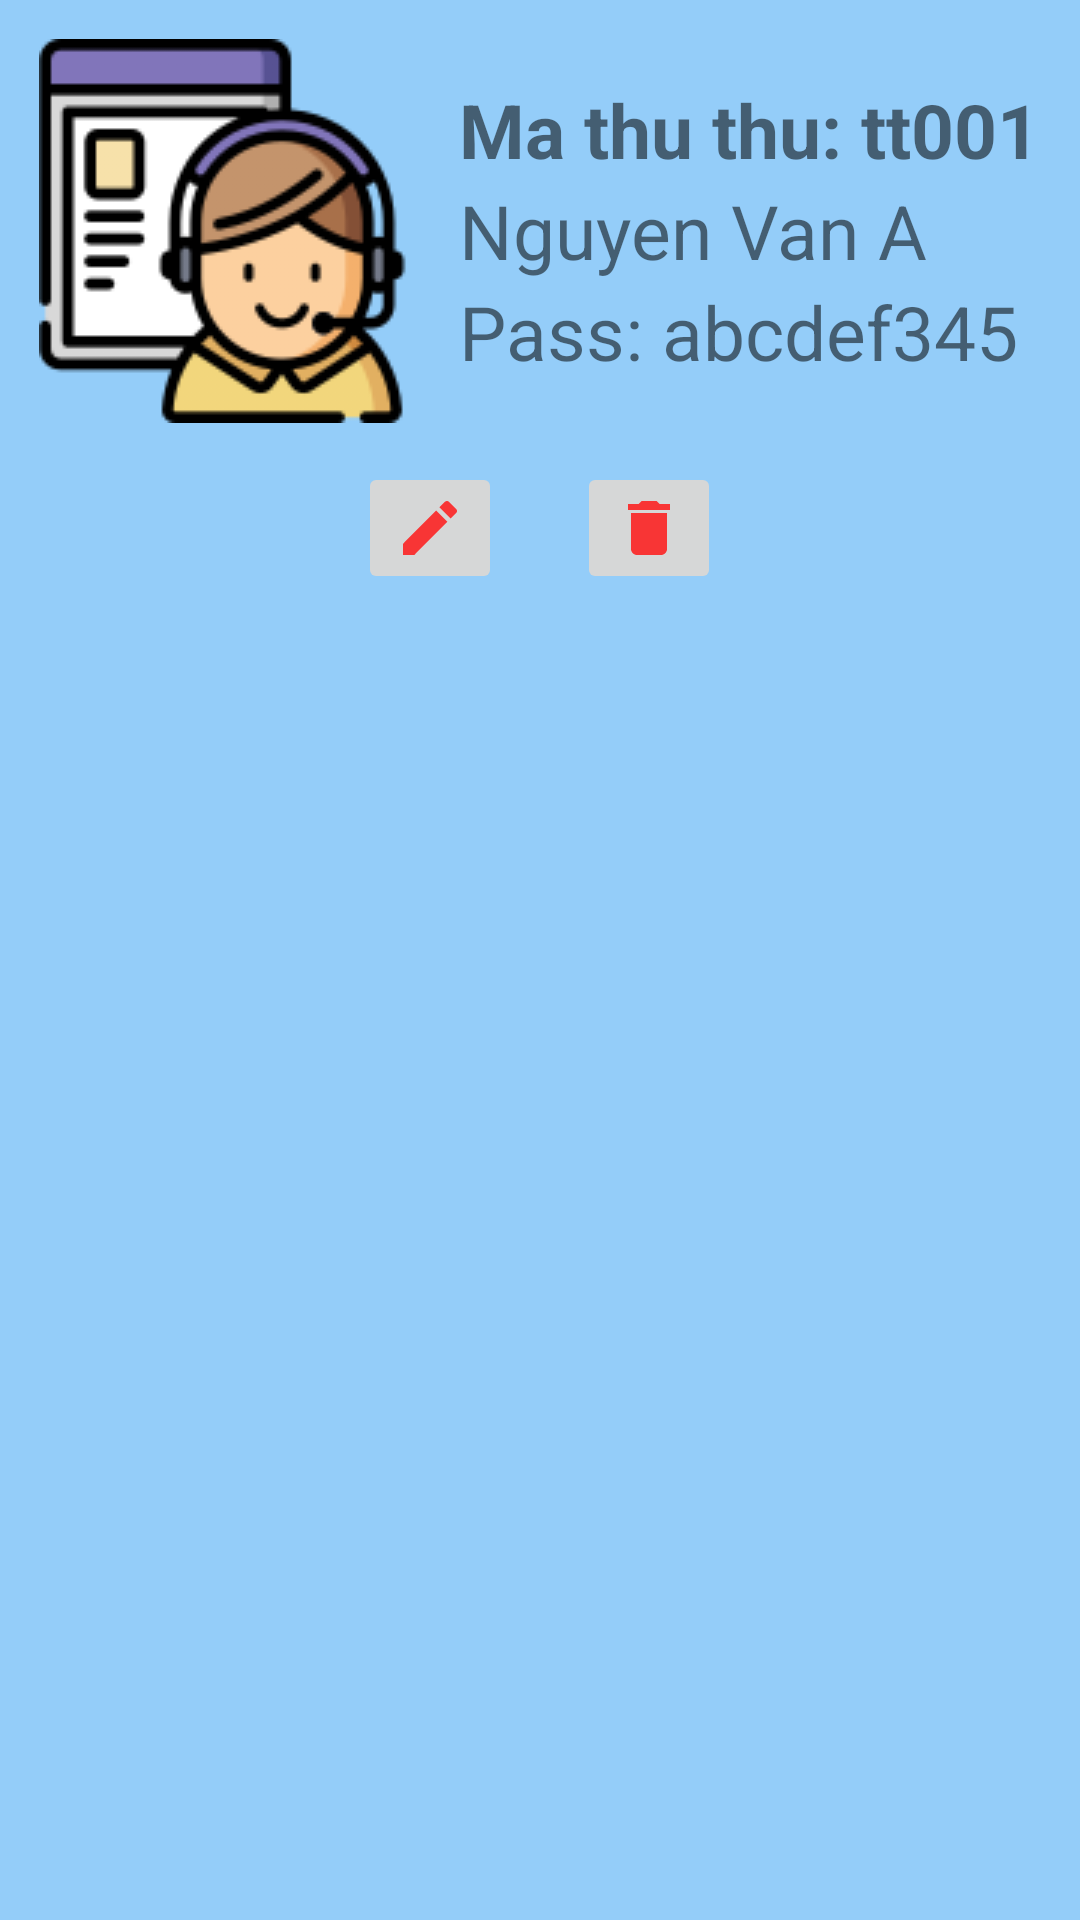

Where to tap for icons on this 1080w x 1920h app screen, as [x,y]:
sua: [430,528]
xoa: [649,528]
